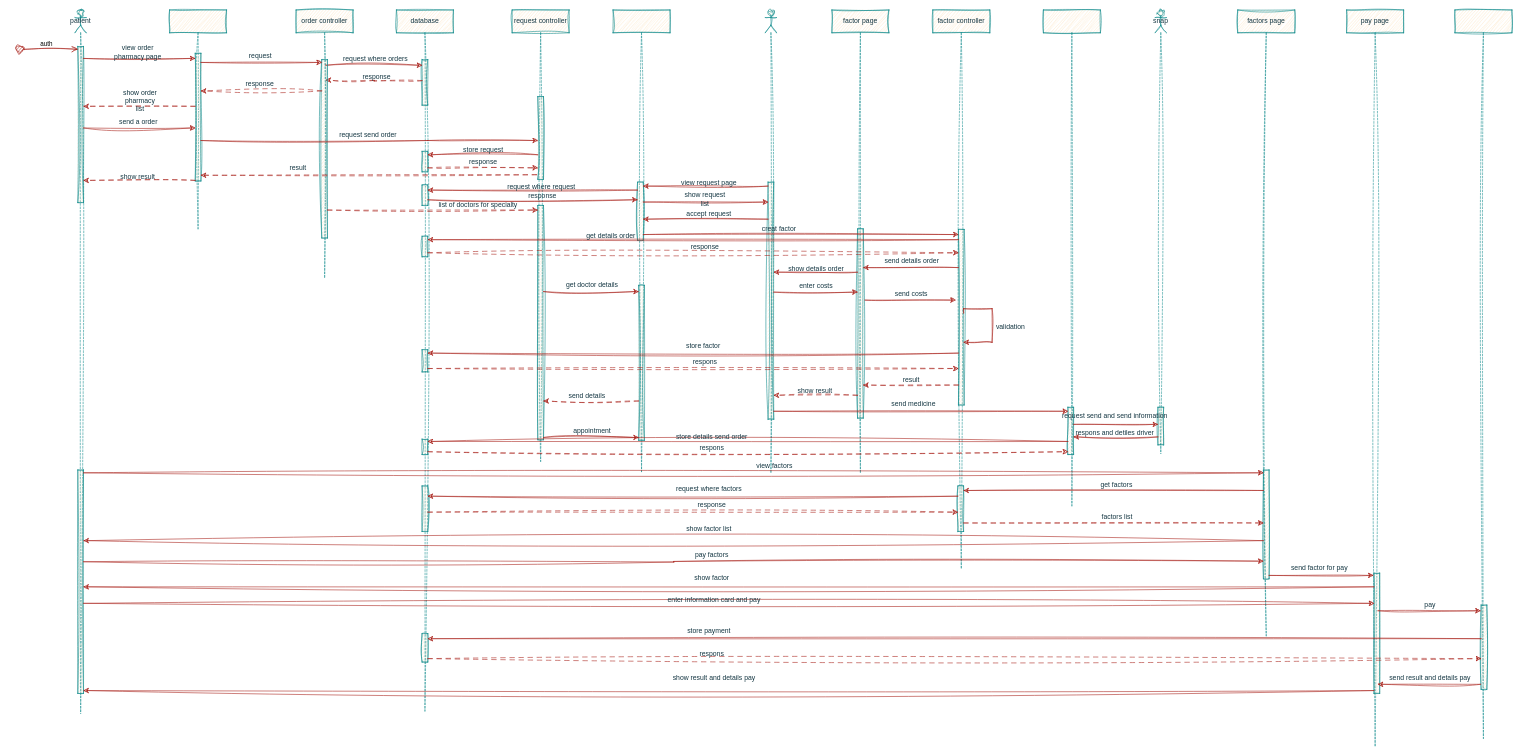
Image size: 1522x756. Some labels were removed from this diagram. Here are the shapes that lost their labels. From the top down, the box of each, then its label:
(169, 9, 227, 229): order page
(612, 9, 670, 472): request page
(765, 9, 777, 472): pharmacy
(1043, 9, 1100, 506): send controller
(1454, 9, 1512, 738): payment controller
